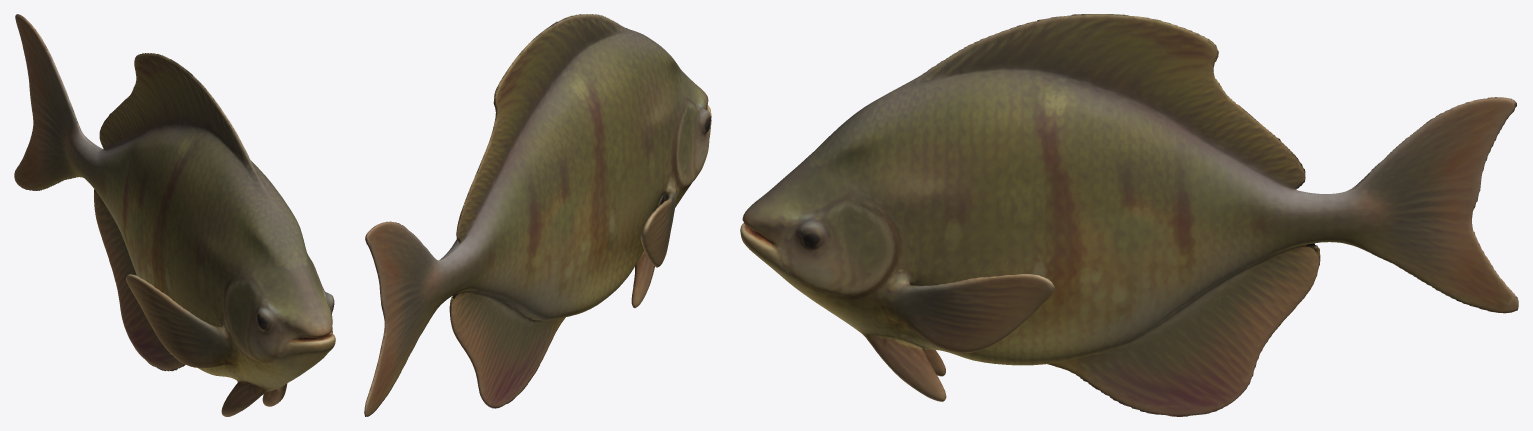
3 views of the same model, side by side, from view 1: azimuth 30°, elevation 25°; view 2: azimuth 150°, elevation 25°; view 3: azimuth 270°, elevation 25° (orthographic). The views are drawn at different scales.
Visible parts, largest first — view 1: world; view 2: world; view 3: world.
Part boxes in pixels (bbox=[...]): world: bbox=[14, 14, 335, 416]; world: bbox=[364, 14, 711, 416]; world: bbox=[740, 14, 1518, 416].
Bounding box in the file's own units: 0.0622 × 0.1256 × 0.22.
1 material, 1 textured.
